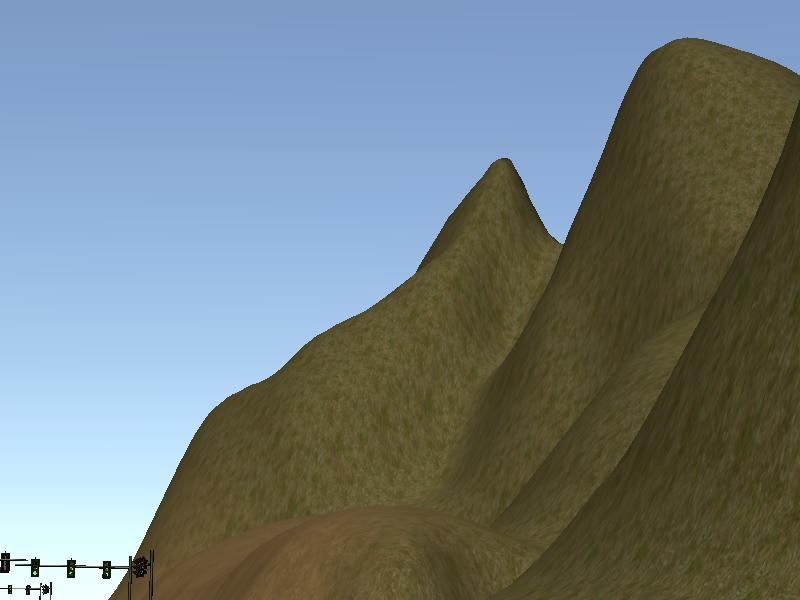Green: (102, 560, 111, 579), (67, 561, 75, 579), (32, 560, 40, 577)
